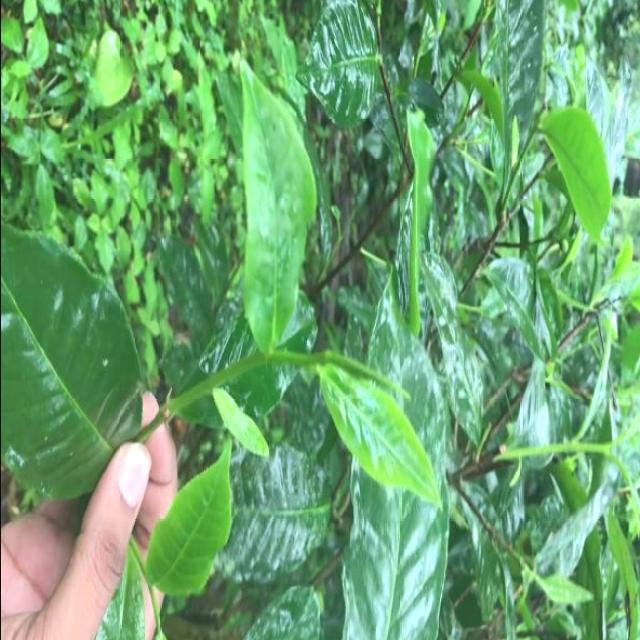Stem: (246, 351, 266, 368)
